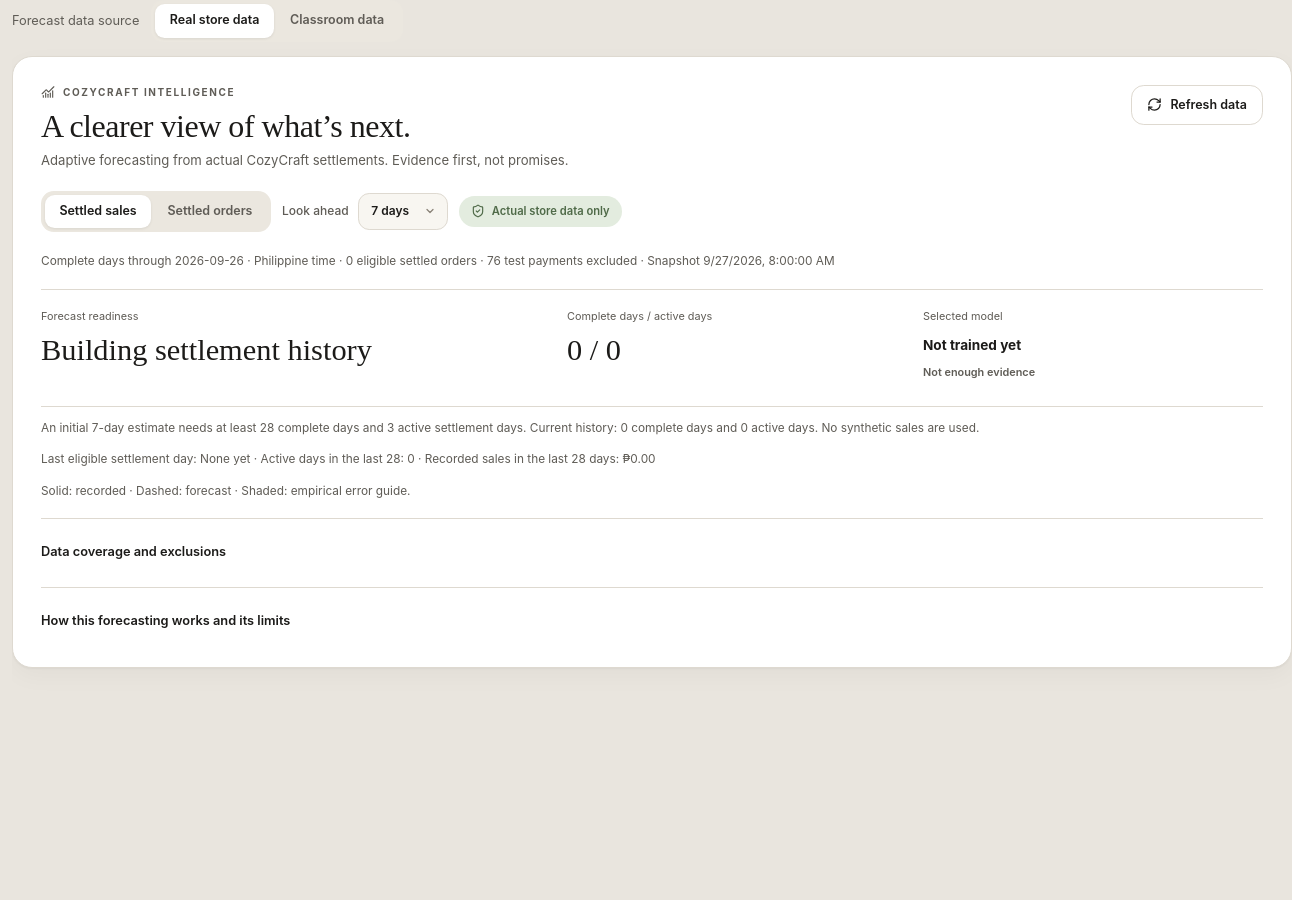
Scenario: forecast live loading lifecycle › only loads the classroom dataset after an explicit source selection
Click the button "Classroom data": (337, 21) [276, 4, 399, 38]
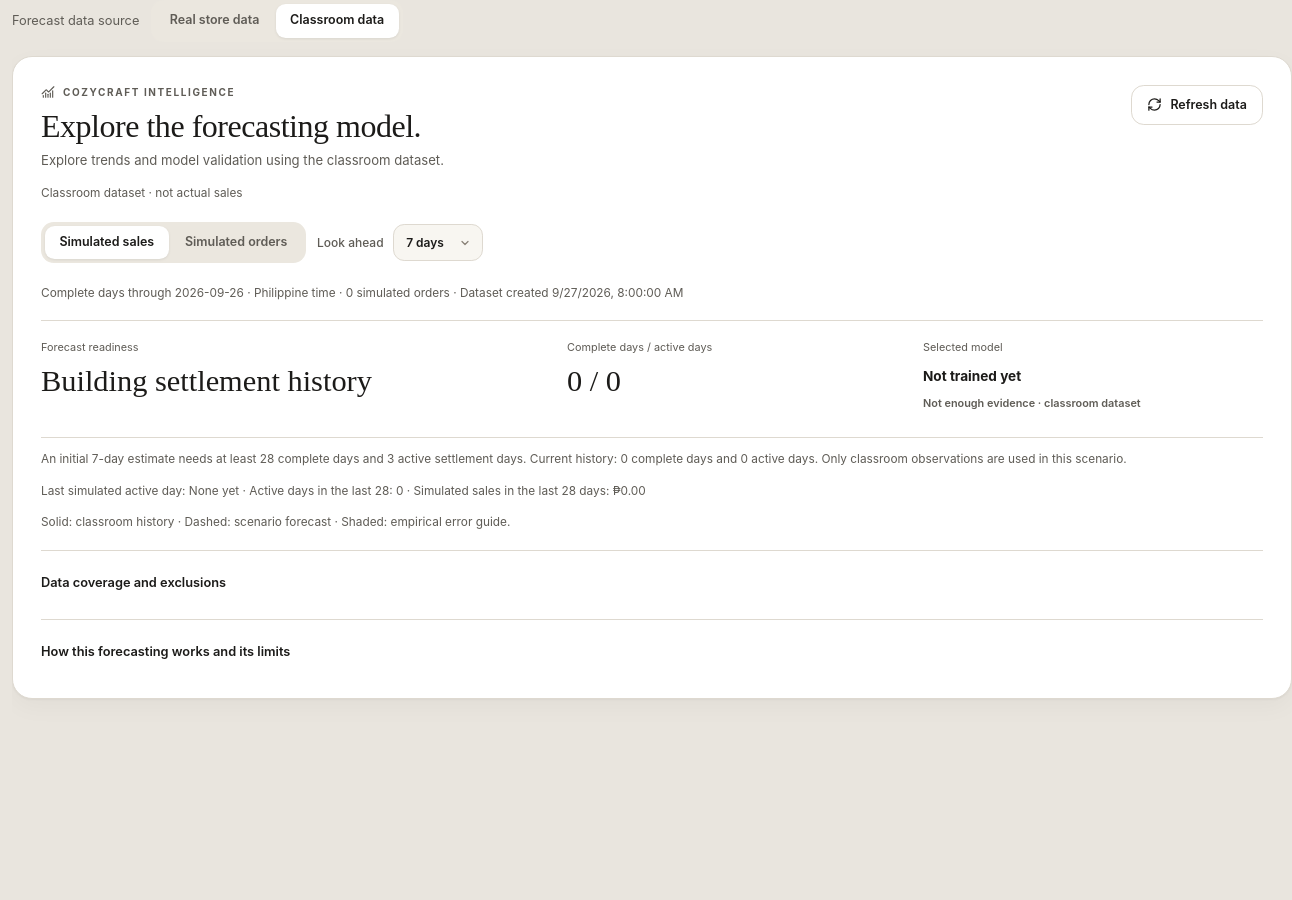
Result: the text "Classroom dataset · not actual sales" is shown at [41, 186, 242, 200]
Result: the text "76 test payments excluded" is gone
